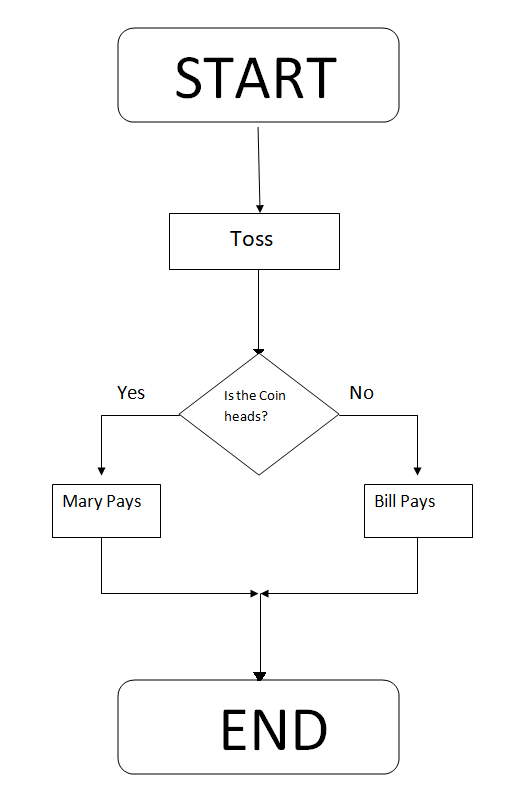arrow: (95, 536, 262, 601), (259, 539, 423, 603), (93, 411, 178, 483), (338, 411, 424, 482), (250, 600, 268, 681), (252, 127, 266, 213), (253, 271, 265, 358)
decision: (178, 354, 338, 475)
process: (112, 22, 405, 126), (113, 676, 404, 780), (165, 211, 344, 274), (46, 481, 164, 542), (359, 480, 475, 542)
text: (174, 51, 339, 109), (216, 703, 330, 758), (221, 386, 288, 429), (60, 491, 142, 515), (372, 491, 441, 515), (224, 227, 277, 252), (113, 380, 147, 404), (348, 383, 375, 403)
